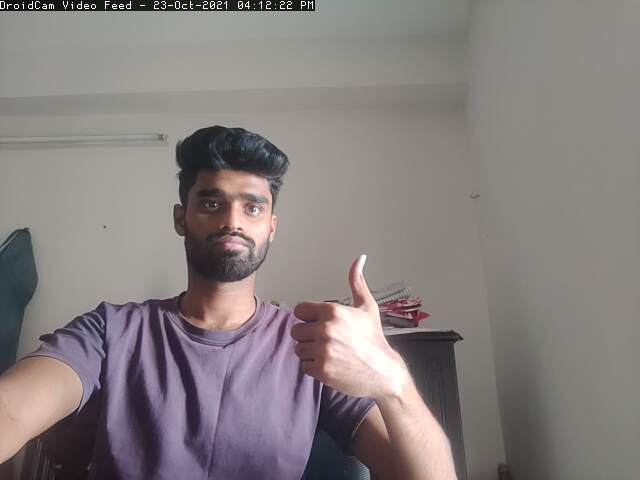ThumbsUp: (288, 250, 396, 408)
